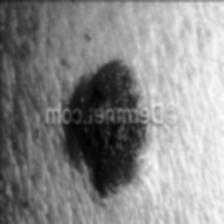Potentially Malignant Skin Tumors: (66, 124, 150, 192), (75, 60, 147, 104)
